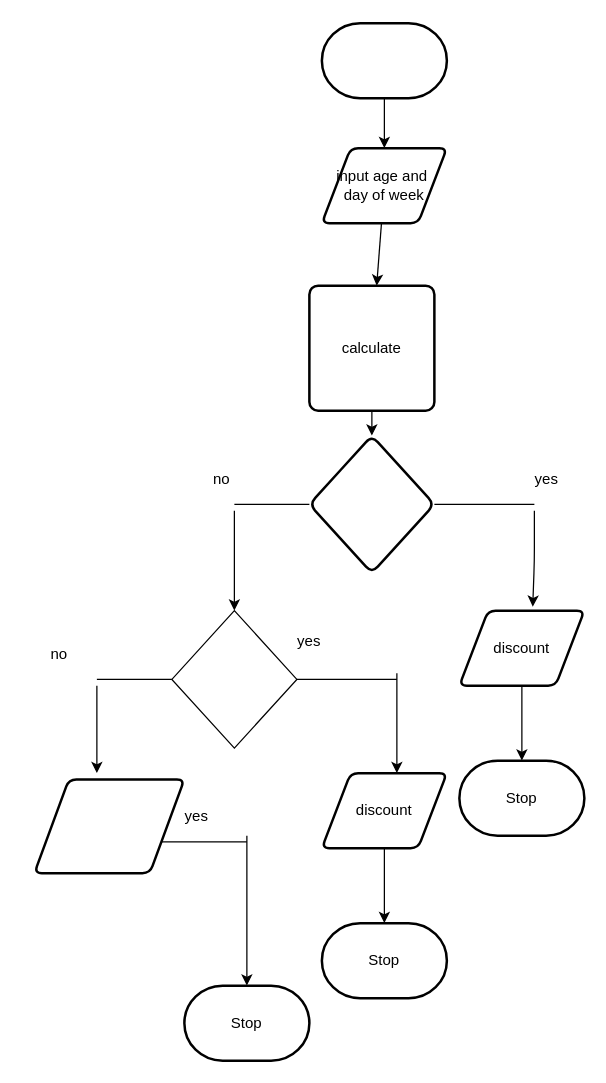
The diagram is 606 pixels wide and 1083 high, and some of its shapes have lost their labels. Here are the shapes that lost their labels. From the top down, the box of each, then its label:
(320, 21, 448, 99): Start
(308, 434, 435, 574): if age is > 12 and age < 21
(171, 609, 297, 748): day is tuesday or thursday
(32, 778, 185, 874): regular pricing
